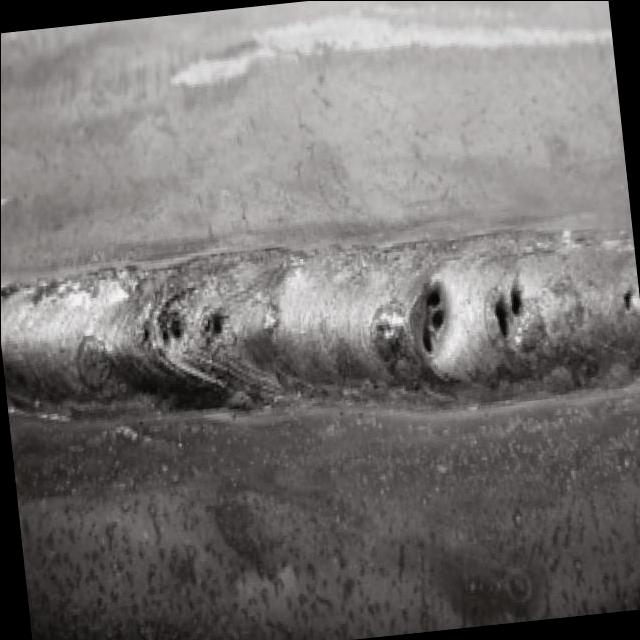defect: (406, 268, 452, 375), (485, 264, 529, 356), (135, 287, 187, 360), (198, 296, 232, 355), (616, 285, 639, 322)
